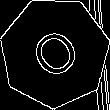O_SE: (23, 20, 86, 85)
